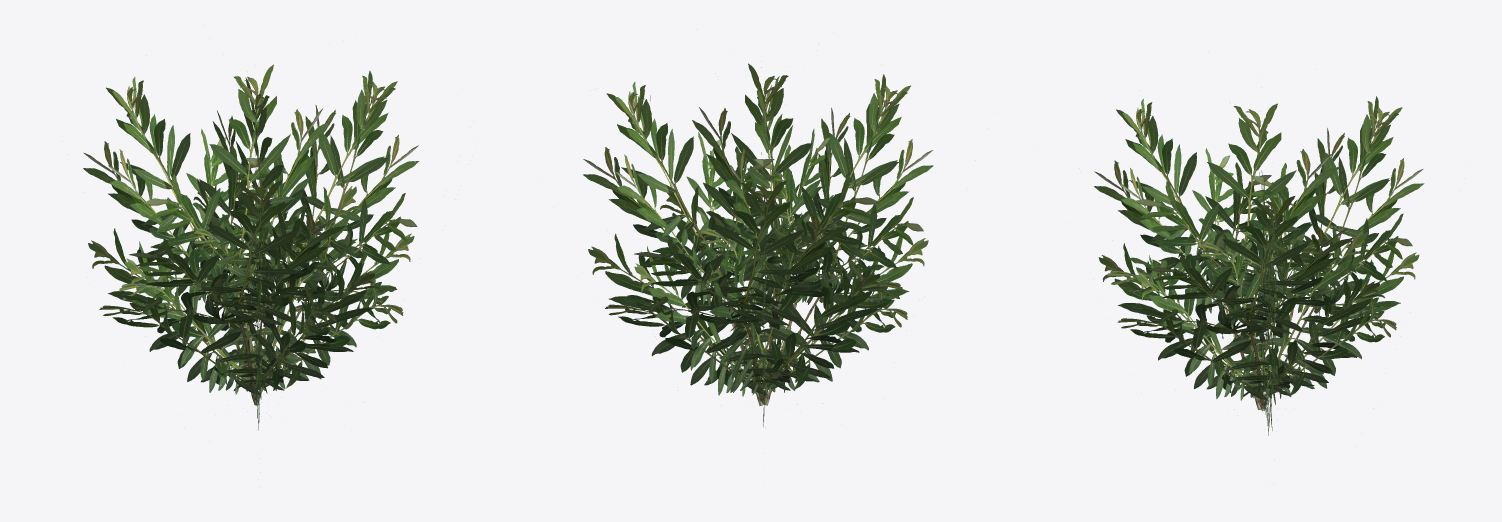
Rendered from bush8.FBX.
3 renders of one model, left to right at view 1: azimuth 30°, elevation 25°; view 2: azimuth 150°, elevation 25°; view 3: azimuth 270°, elevation 25°, orthographic. The views are drawn at different scales.
Parts seen in each view (by area): view 1: bush8; view 2: bush8; view 3: bush8.
Boxes of the visible parts, left/top/right/bottom form: bush8: left=83, top=64, right=419, bottom=430; bush8: left=583, top=63, right=933, bottom=426; bush8: left=1094, top=96, right=1424, bottom=435.
Bounding box in the file's own units: 6.74 × 6.15 × 6.5.
